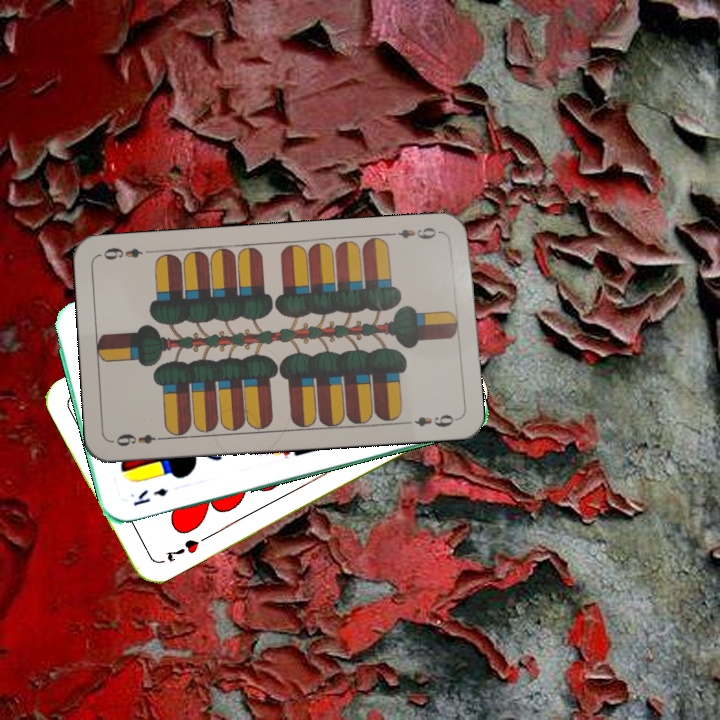E9: (387, 223, 446, 242), (112, 430, 169, 449)
EK: (129, 484, 170, 509)
H7: (162, 535, 202, 565)
